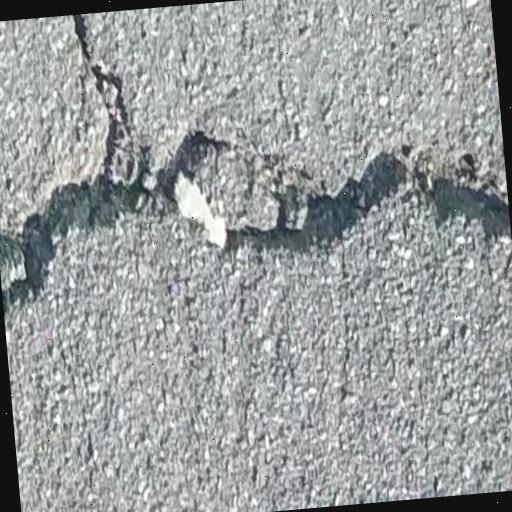spalling: (1, 13, 512, 327)
